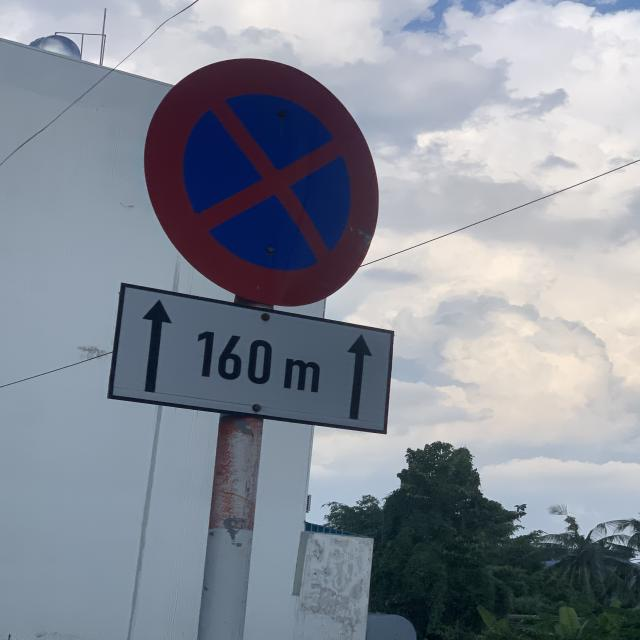Cam_Dung_Va_Dau_Xe: (142, 58, 380, 304)
